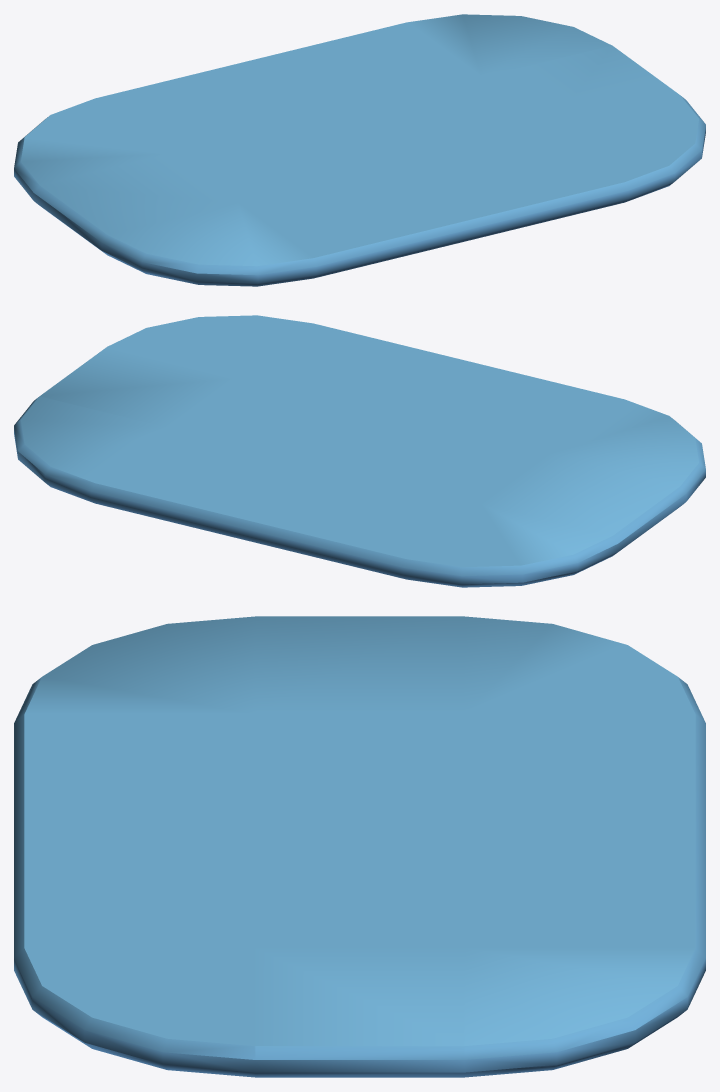
Rendered from rug_oval_B.obj.
3 renders of one model, top to bottom at view 1: azimuth 30°, elevation 25°; view 2: azimuth 150°, elevation 25°; view 3: azimuth 270°, elevation 25°, orthographic. The views are drawn at different scales.
Visible parts, largest first — view 1: rug_oval_B_Cube.010; view 2: rug_oval_B_Cube.010; view 3: rug_oval_B_Cube.010.
Boxes of the visible parts, box(x1,y1,x2,y2) form: rug_oval_B_Cube.010: box(14, 14, 705, 286); rug_oval_B_Cube.010: box(14, 315, 705, 587); rug_oval_B_Cube.010: box(14, 616, 705, 1077).
Bounding box in the file's own units: 3 × 0.1 × 2.
Materials: 1 (1 with a texture image).
